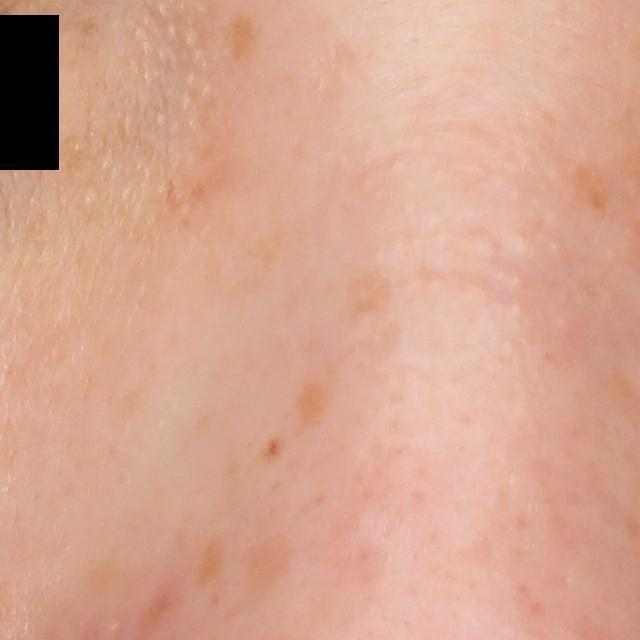melasma: (280, 356, 352, 420), (241, 538, 294, 604), (212, 8, 260, 64), (574, 163, 615, 224), (339, 269, 394, 311), (196, 514, 224, 588)
